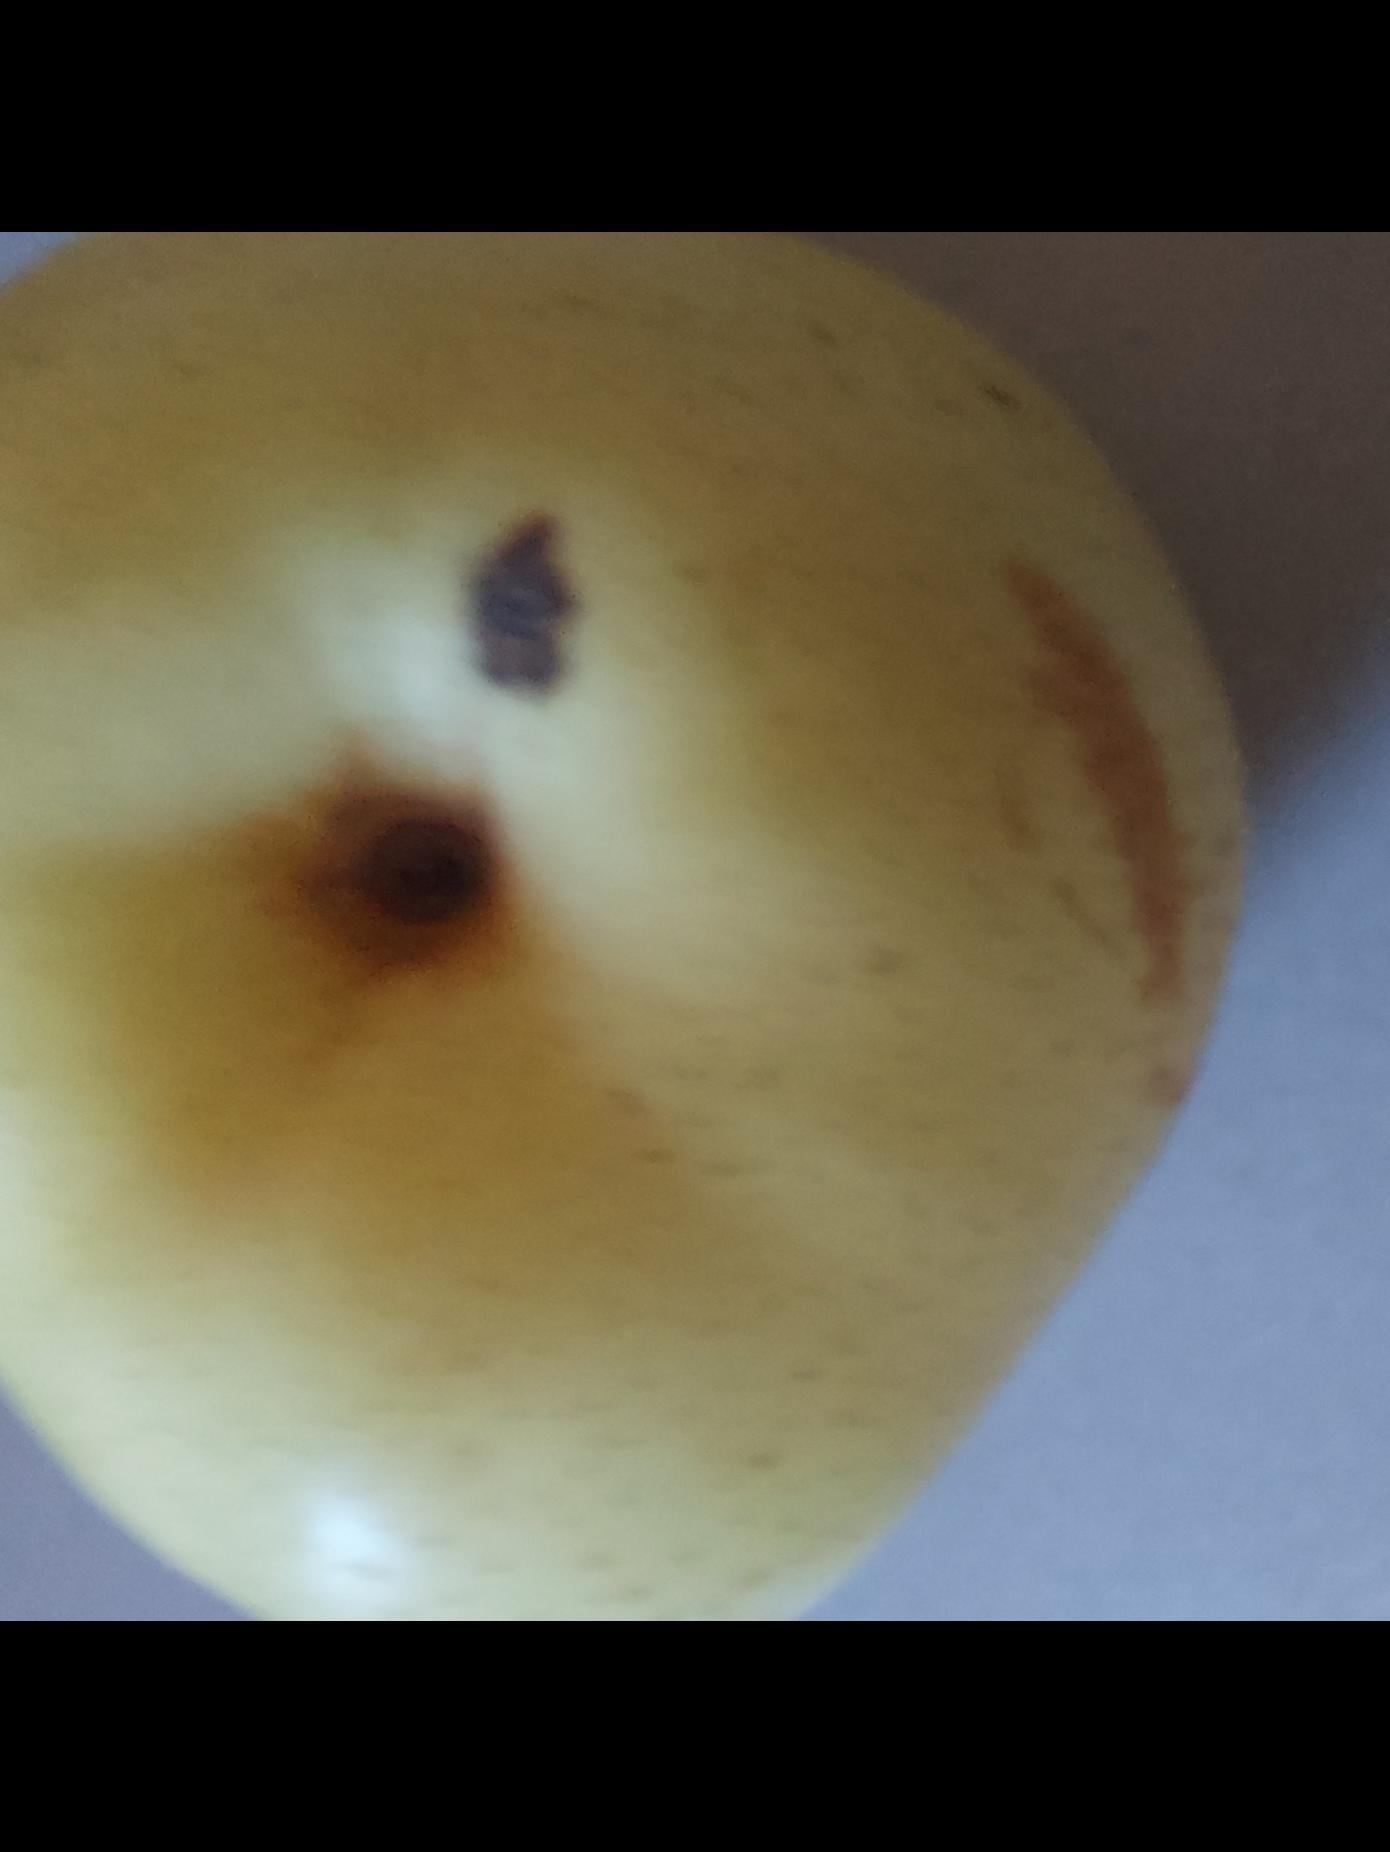Good Pear: (0, 231, 1267, 1621)
